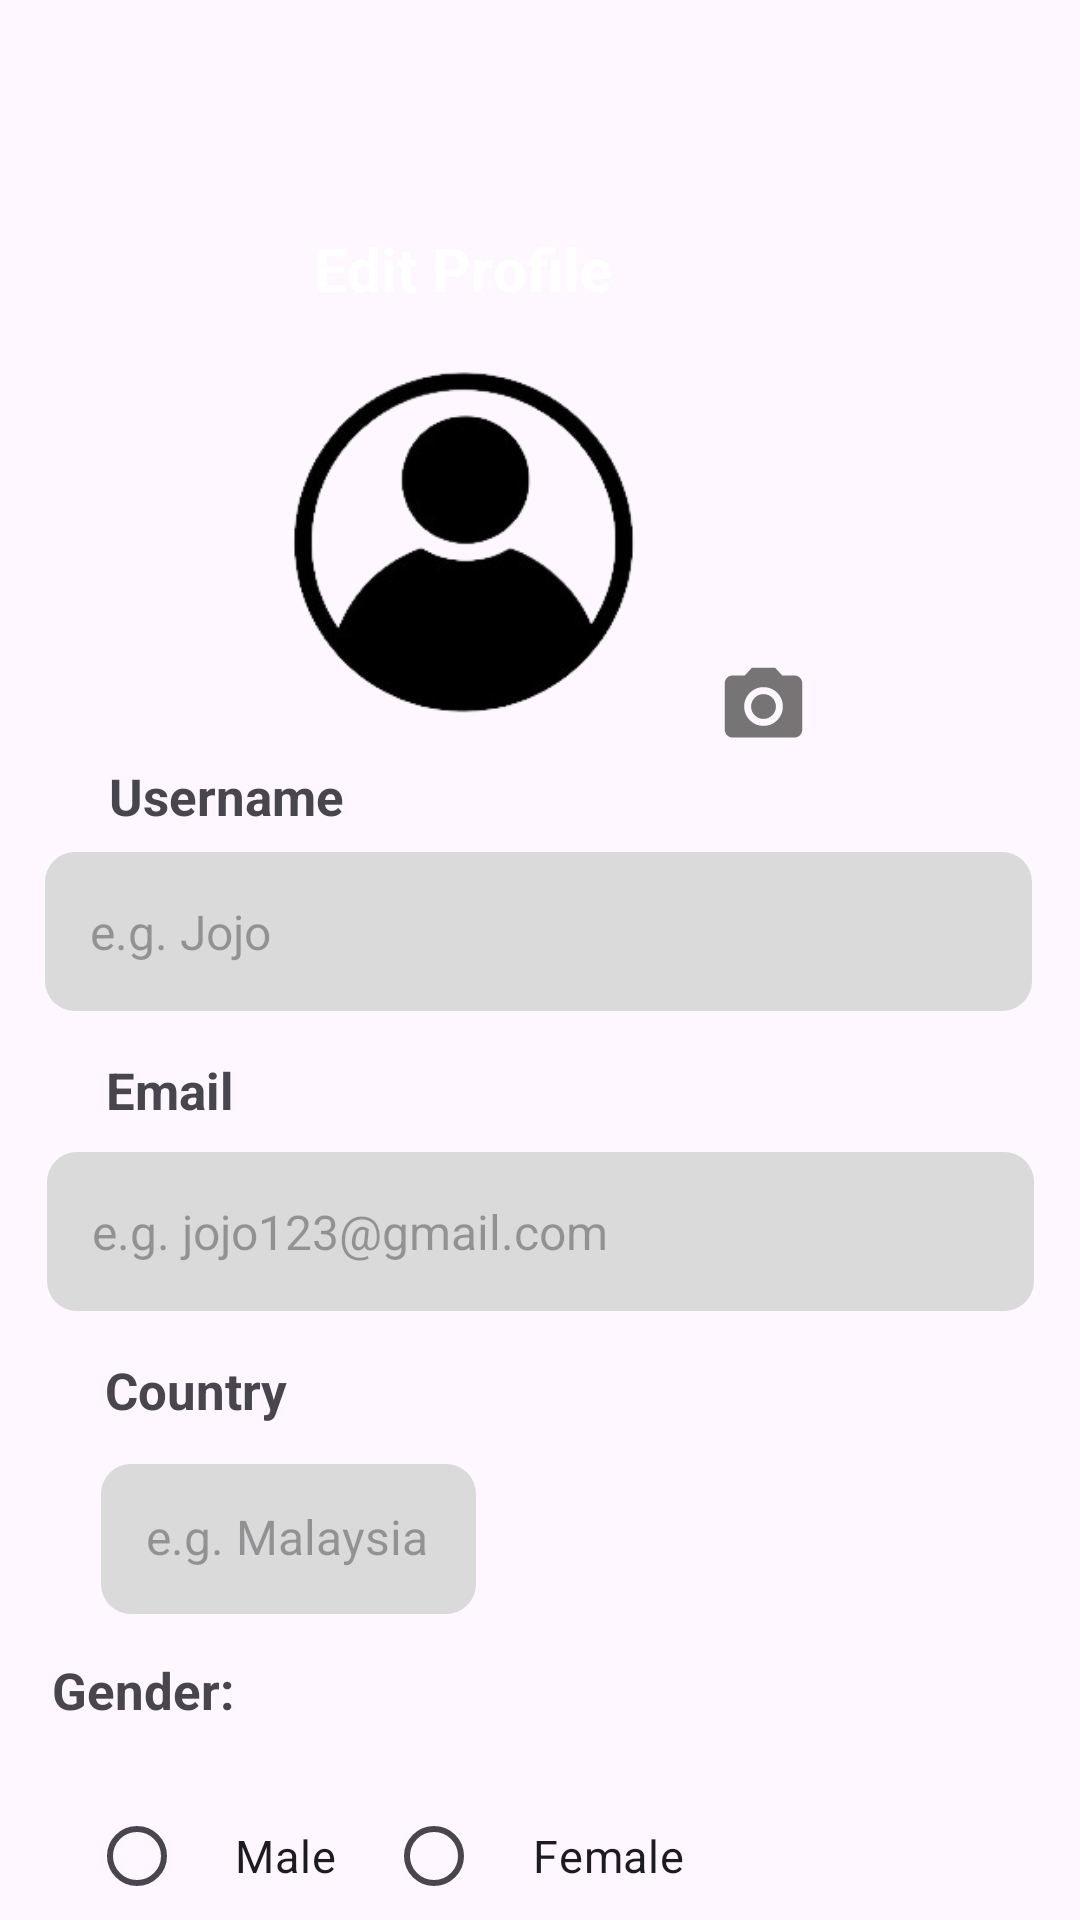

Icon click points for this 1080×1920 phone screenshot, format [x,y]:
camera: [763,702]
